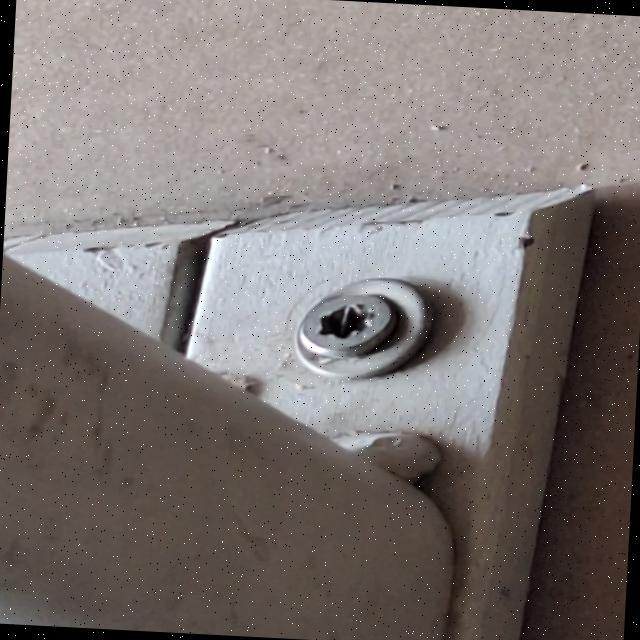Torx: (297, 282, 405, 366)
